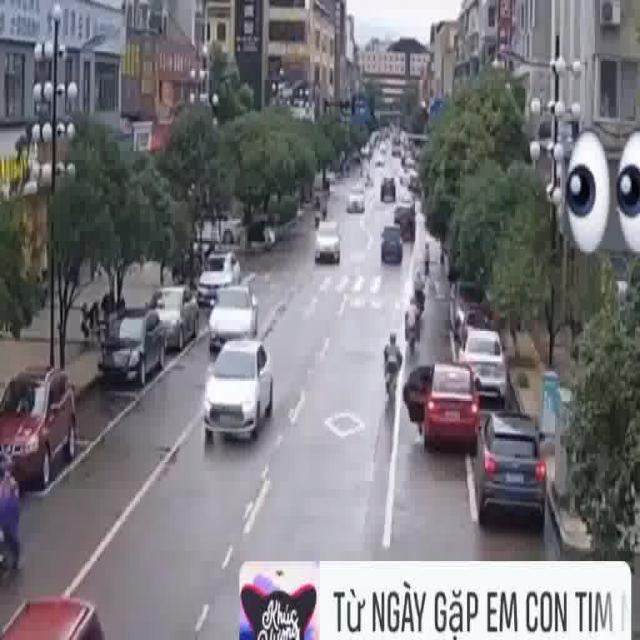normal: (401, 320, 557, 547), (0, 343, 87, 603), (197, 277, 279, 450), (94, 273, 199, 390), (370, 180, 429, 273), (309, 186, 347, 280)
